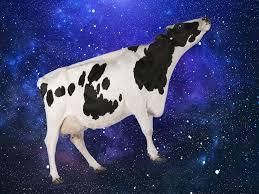cow: (40, 16, 211, 185)
